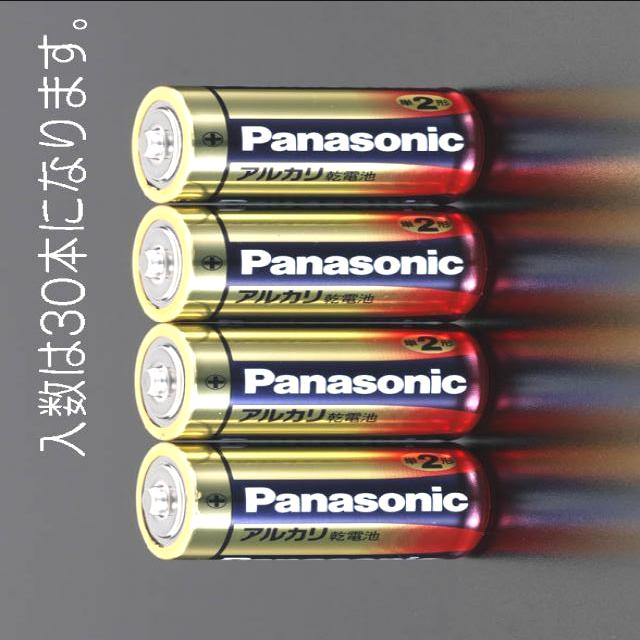AA: (130, 76, 488, 205), (128, 202, 492, 327), (132, 442, 498, 564), (132, 321, 491, 440)
